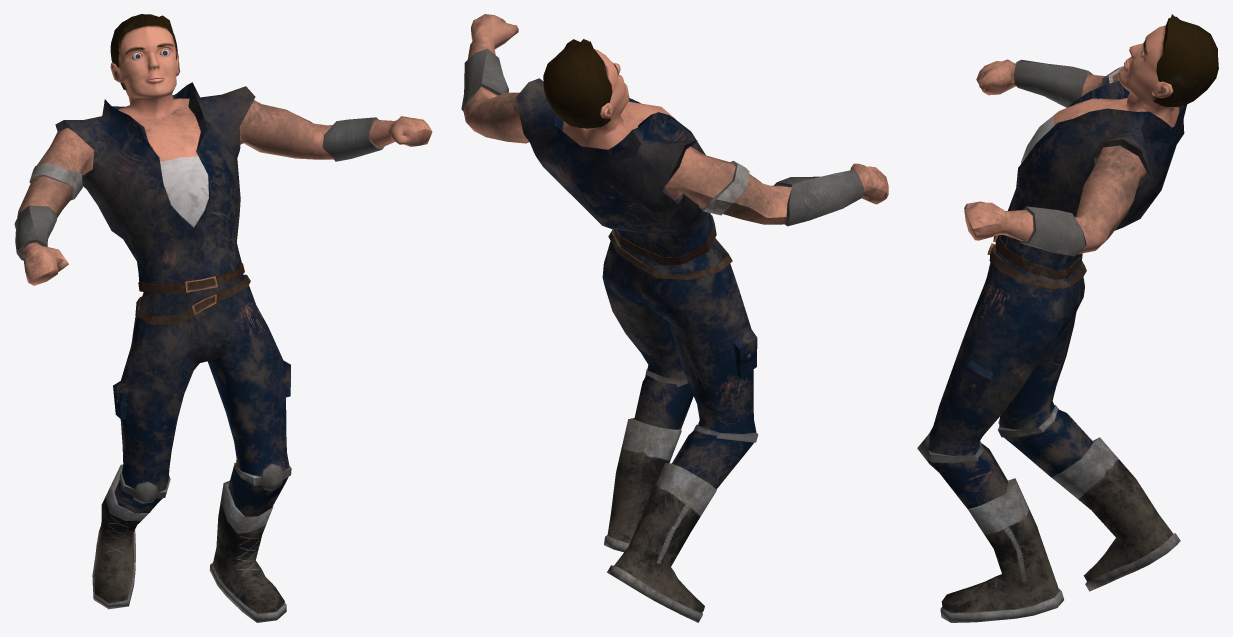
File: Anim_recibirdanyo_jugador.0017.obj
3 views of the same model, side by side, from view 1: azimuth 30°, elevation 25°; view 2: azimuth 150°, elevation 25°; view 3: azimuth 270°, elevation 25° (orthographic). The views are drawn at different scales.
Visible parts, largest first — view 1: polySurface1; view 2: polySurface1; view 3: polySurface1.
Part boxes in pixels (x1,y1,x2,y2): polySurface1: [14, 14, 432, 622]; polySurface1: [461, 14, 888, 622]; polySurface1: [917, 14, 1218, 622].
Size of the model in its own units: 6.8 by 9.06 by 4.08.
